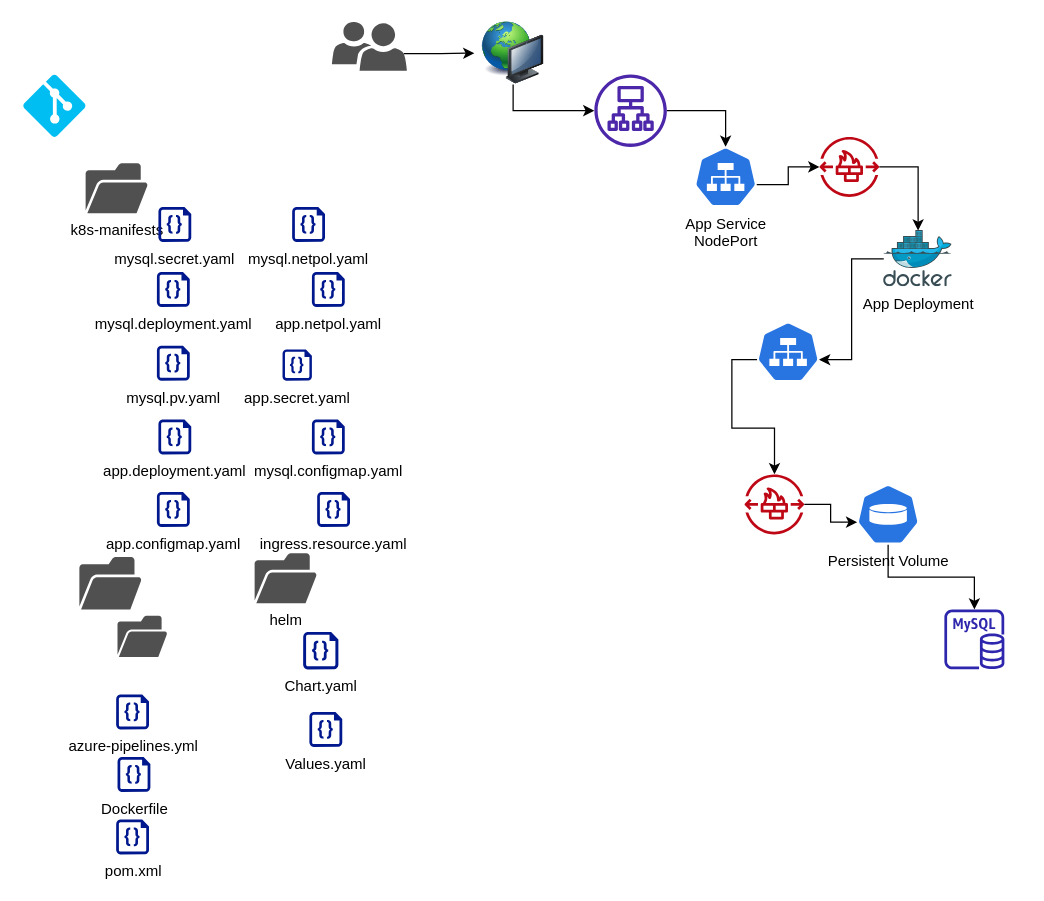
The diagram is 1044 pixels wide and 901 high, and some of its shapes have lost their labels. Each missing label, with the centre of its shape:
"App Netpol" belongs at [849,166].
"Database Pod" belongs at [974,639].
"Ingress" belongs at [630,110].
"MYSQL Netpol" belongs at [774,504].
"MYSQL Service ClusterIP" belongs at [787,351].
"repository" belongs at [53,105].
"src" belongs at [142,635].
"Users" belongs at [368,45].
